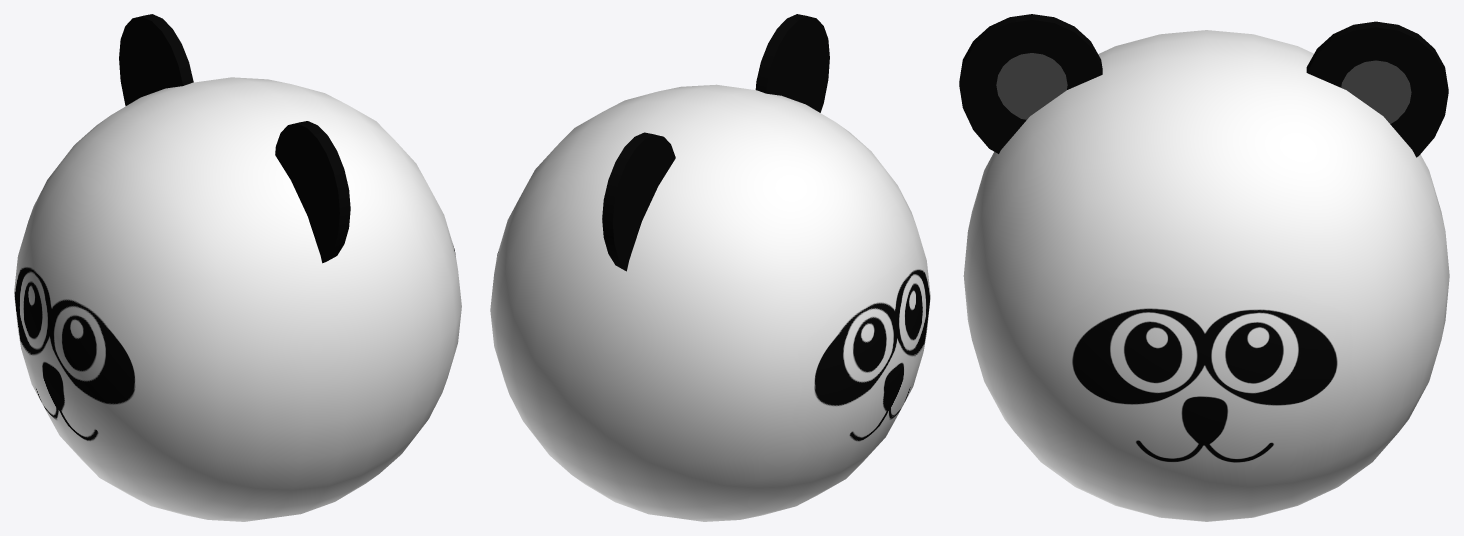
The model's file is panda.fbx.
The picture shows the model from 3 angles, left to right: view 1: azimuth 30°, elevation 25°; view 2: azimuth 150°, elevation 25°; view 3: azimuth 270°, elevation 25°; orthographic projection. The views are drawn at different scales.
Visible parts, largest first — view 1: emoji12; view 2: emoji12; view 3: emoji12.
Boxes of the visible parts, x1,y1,x2,y2 form: emoji12: (14, 14, 461, 521); emoji12: (490, 14, 930, 521); emoji12: (959, 14, 1449, 521).
Bounding box in the file's own units: 4.25 × 4.6 × 4.28.
